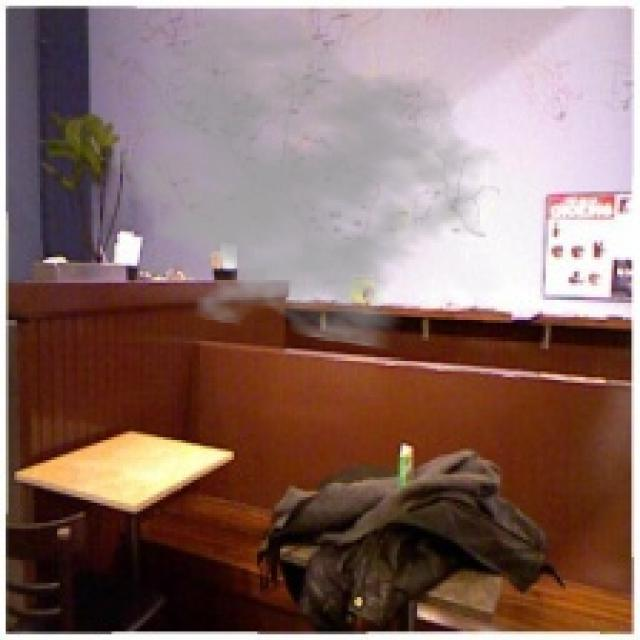Smoke: (83, 9, 503, 352)
